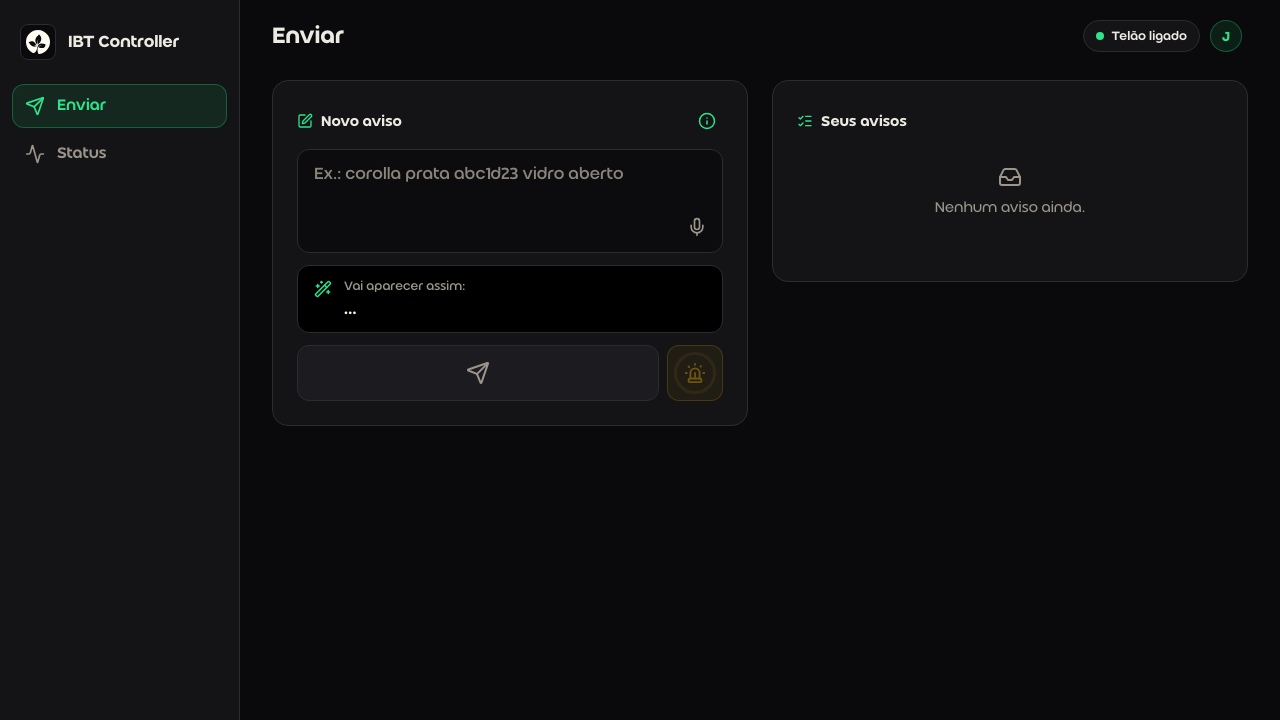
Test: Shell › o avatar mostra a inicial e abre o menu com Sair
Click the button named "Conta".
click(1226, 36)  # box [1204,14,1248,58]
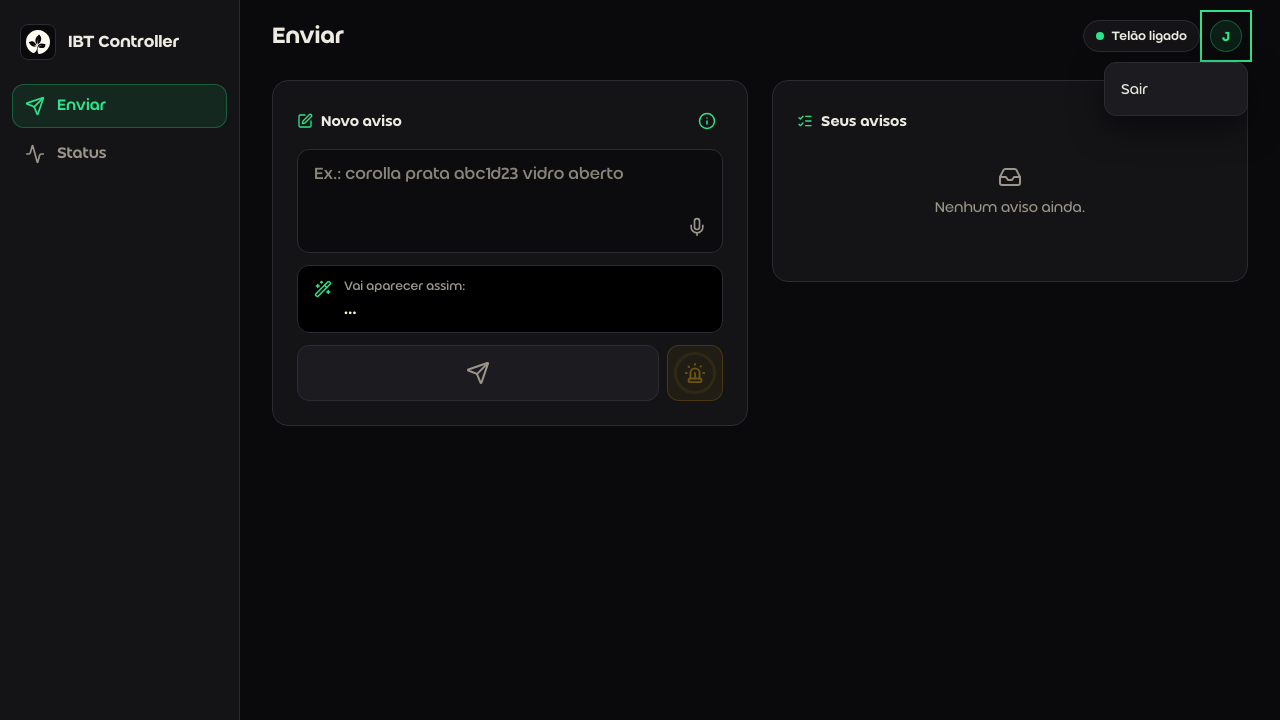
Click the menu item "Sair".
click(1176, 89)  # box [1109,67,1243,111]
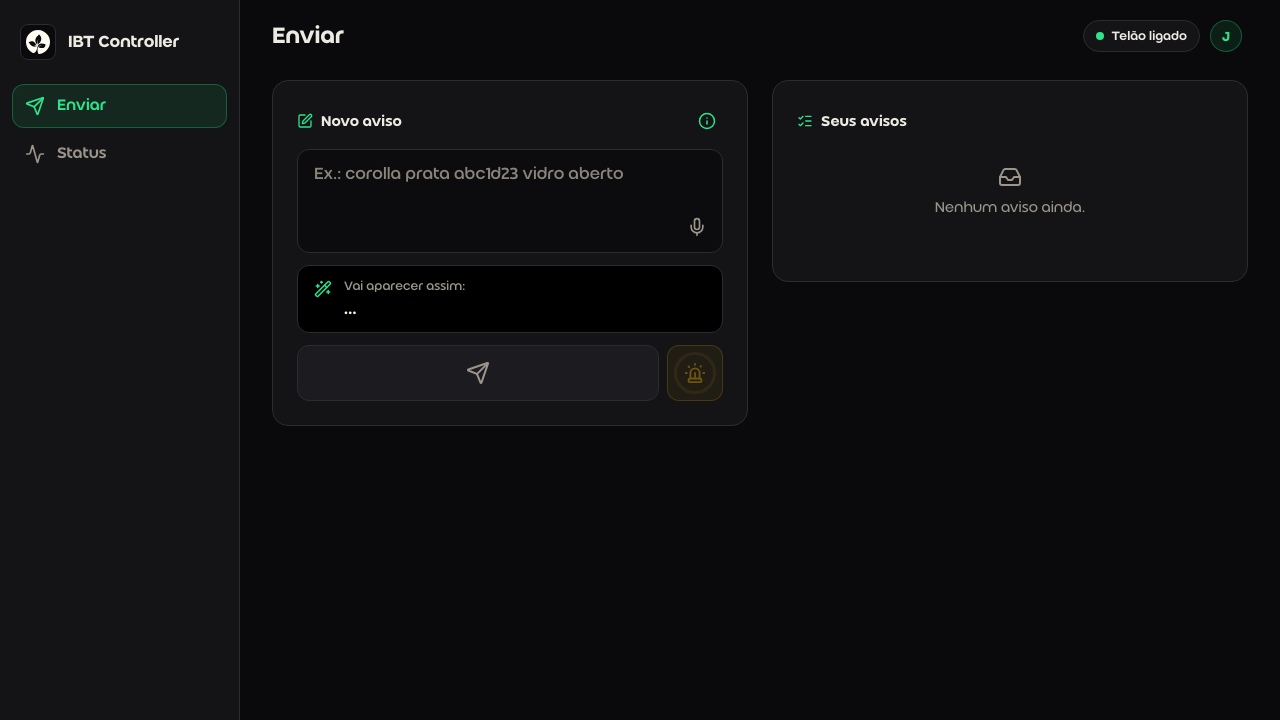
Expected: the menu is gone
